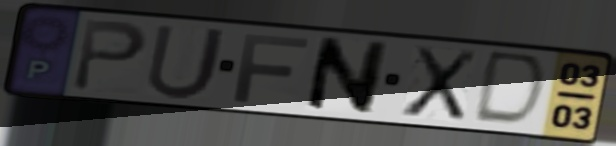D: (468, 48, 551, 130)
F: (230, 32, 313, 105)
N: (300, 34, 392, 117)
P: (68, 17, 151, 94)
U: (142, 22, 232, 102)
X: (398, 44, 482, 124)
